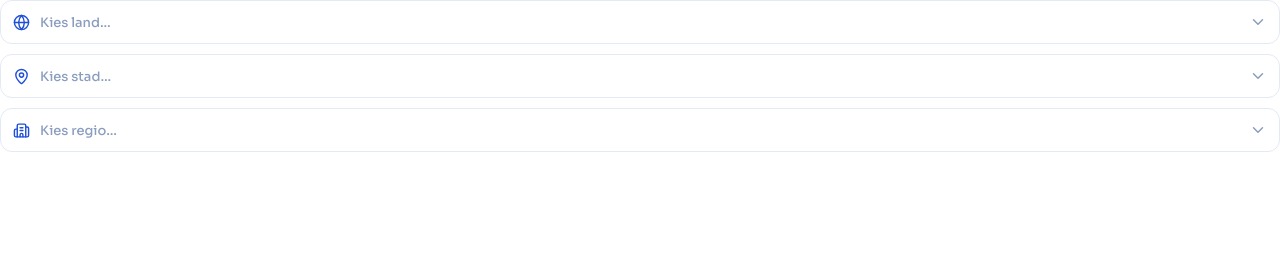
Test: ScopePicker — choosing where to search › shows the popular countries above the rest, under their own headings
Click the dropdown with test id "scope-country" at (640, 22), box [40,14,1239,30]
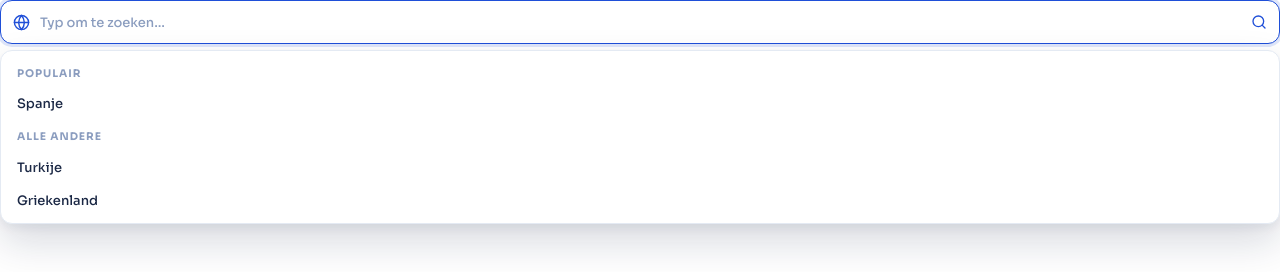
Expected: the text "Spanje" is shown, [17,95,63,112]
